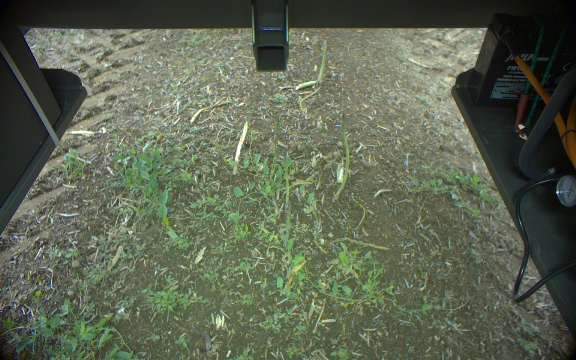aspa: (332, 113, 355, 205), (189, 100, 234, 122), (231, 120, 250, 171), (266, 116, 281, 178), (282, 205, 297, 258), (314, 40, 331, 81), (282, 157, 293, 198), (293, 78, 317, 91)
